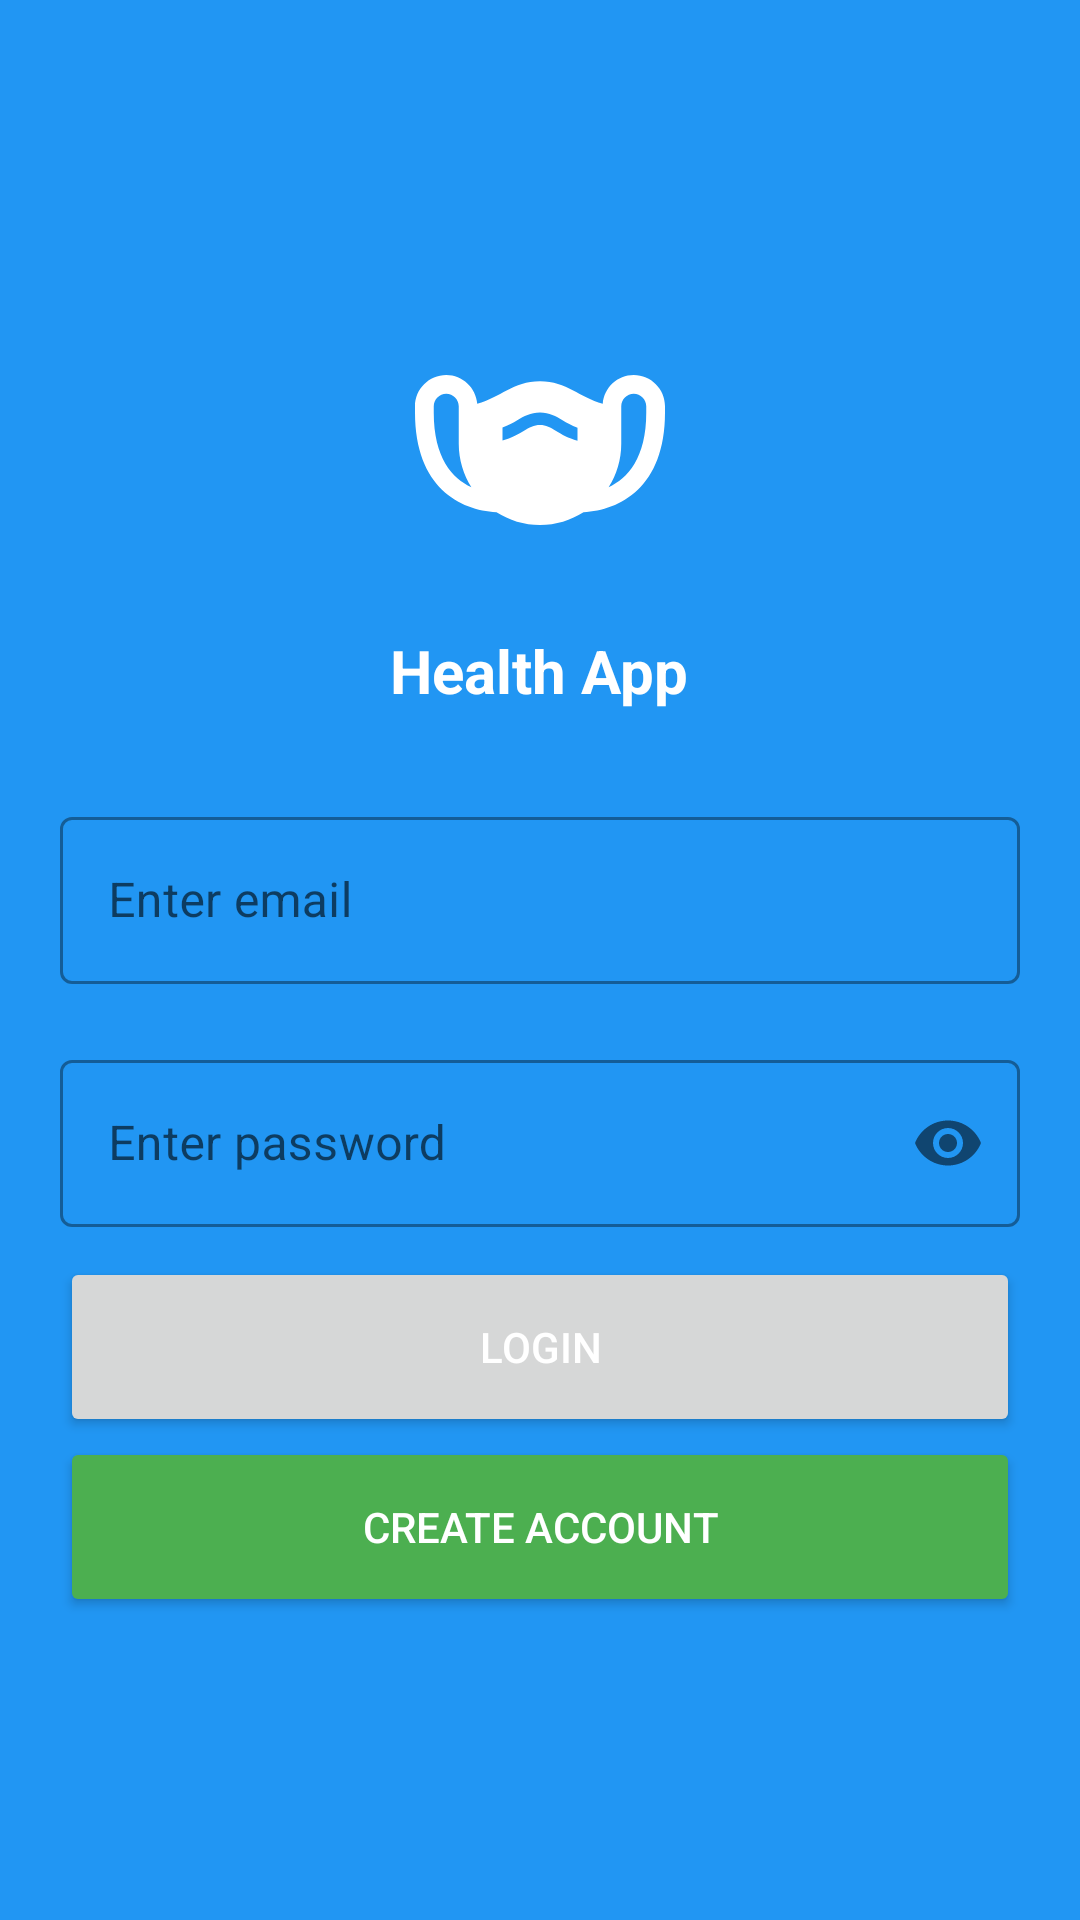

Icon bounding boxes for this 1080px×1920px phone screenshot, format (x1, y1, x2, y2):
masks: (415, 375, 665, 525)
